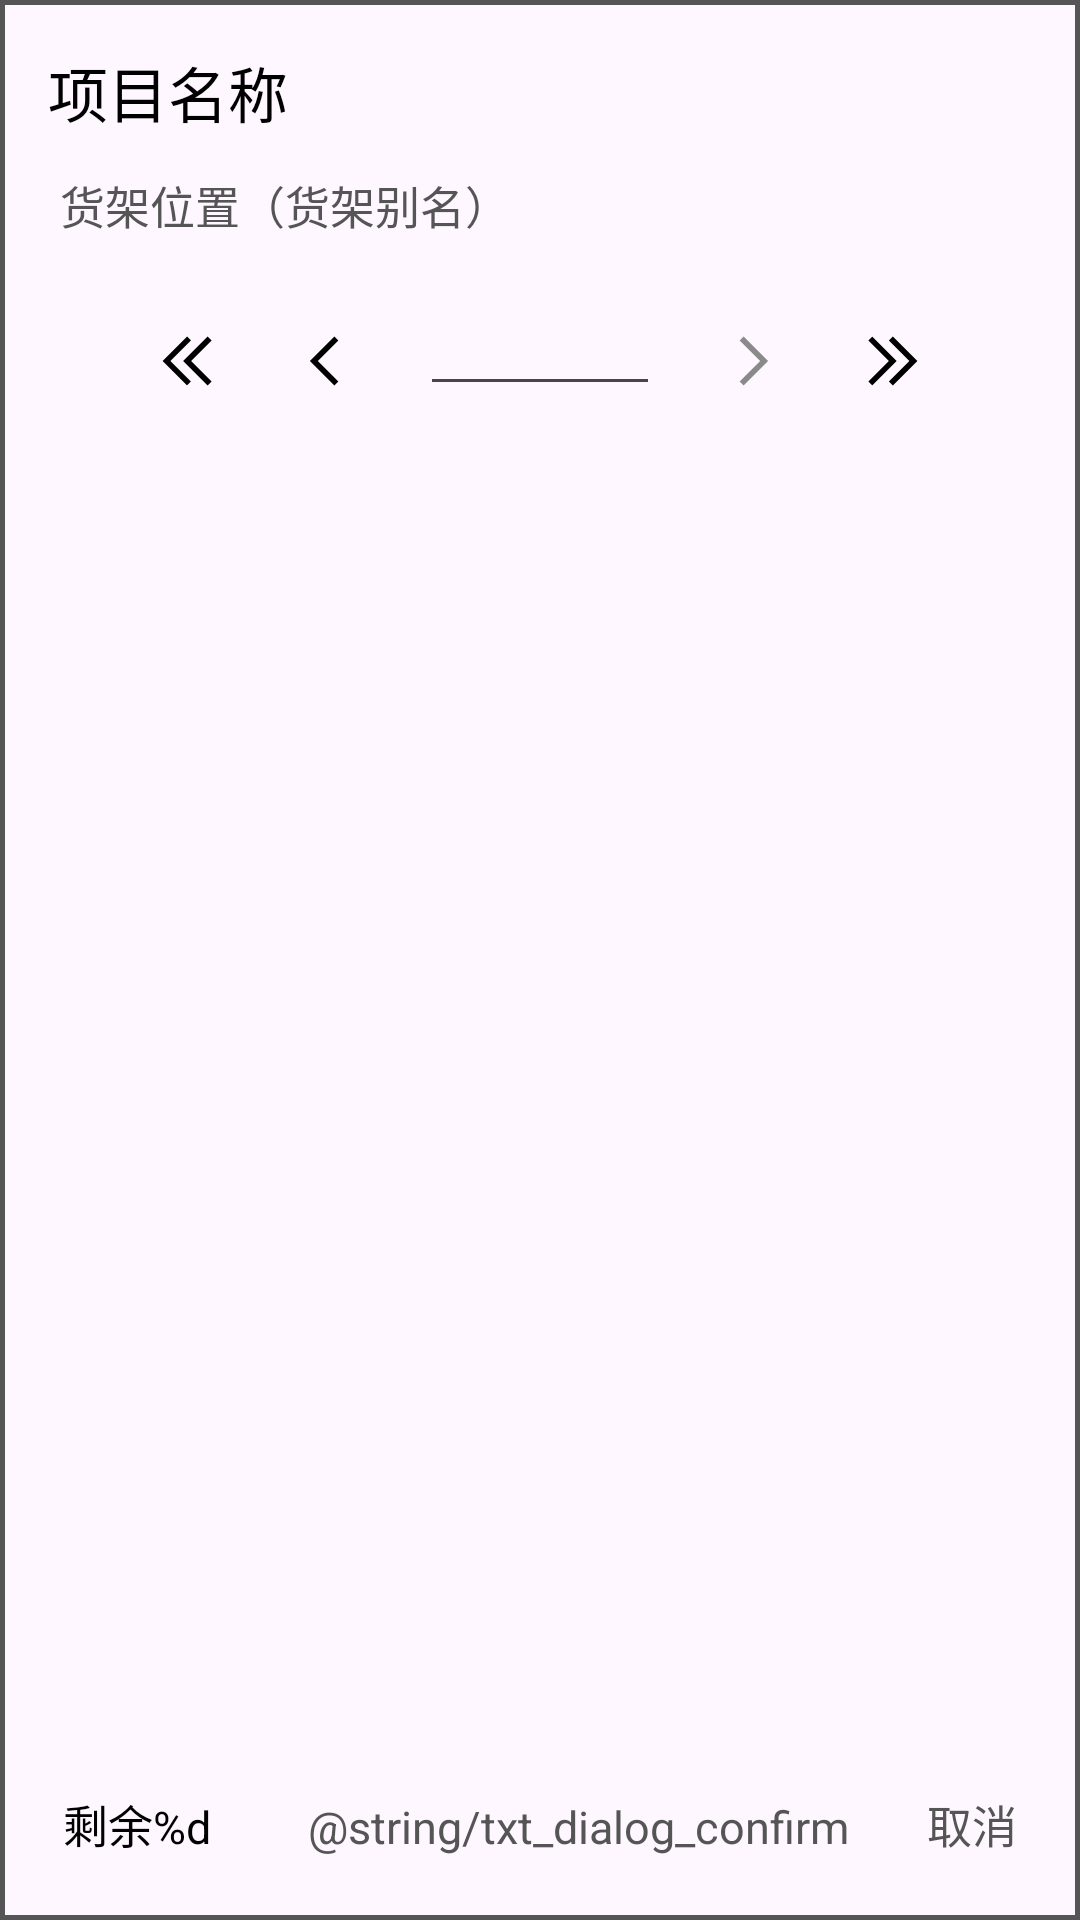

Where to tap for icons on this 1080px x 1920px app screen, as point (x, y):
arrow left: point (324, 361)
arrow right: point (754, 361)
double arro right: point (892, 361)
double arrow left: point (187, 361)
